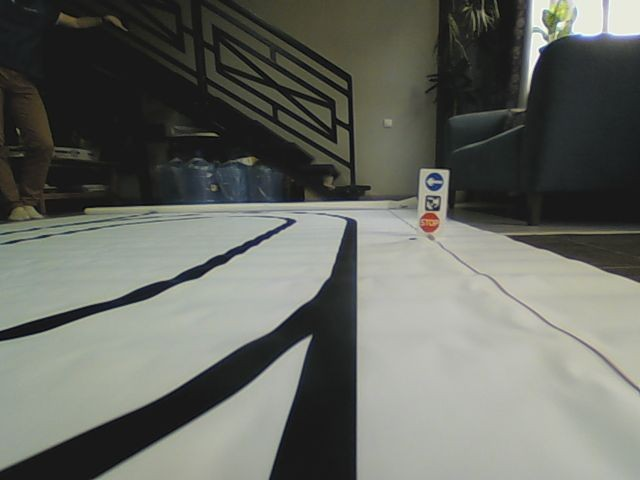Stop: (418, 212, 441, 232)
